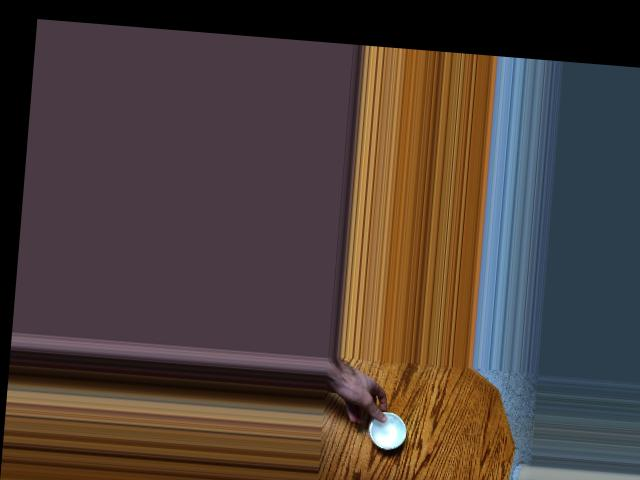cotage: (367, 409, 404, 445)
